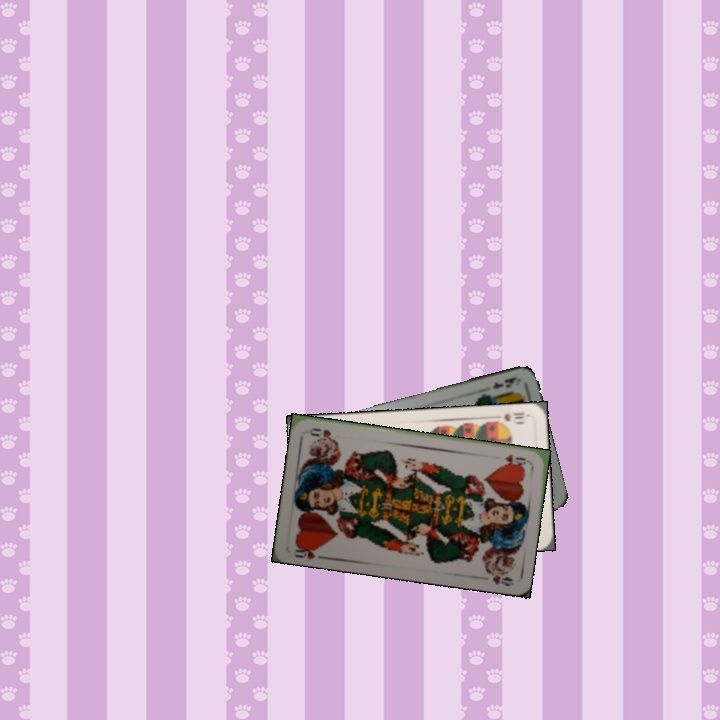EK: (488, 373, 521, 391)
HO: (290, 540, 328, 562), (501, 451, 529, 470)
S10: (491, 409, 531, 427)
